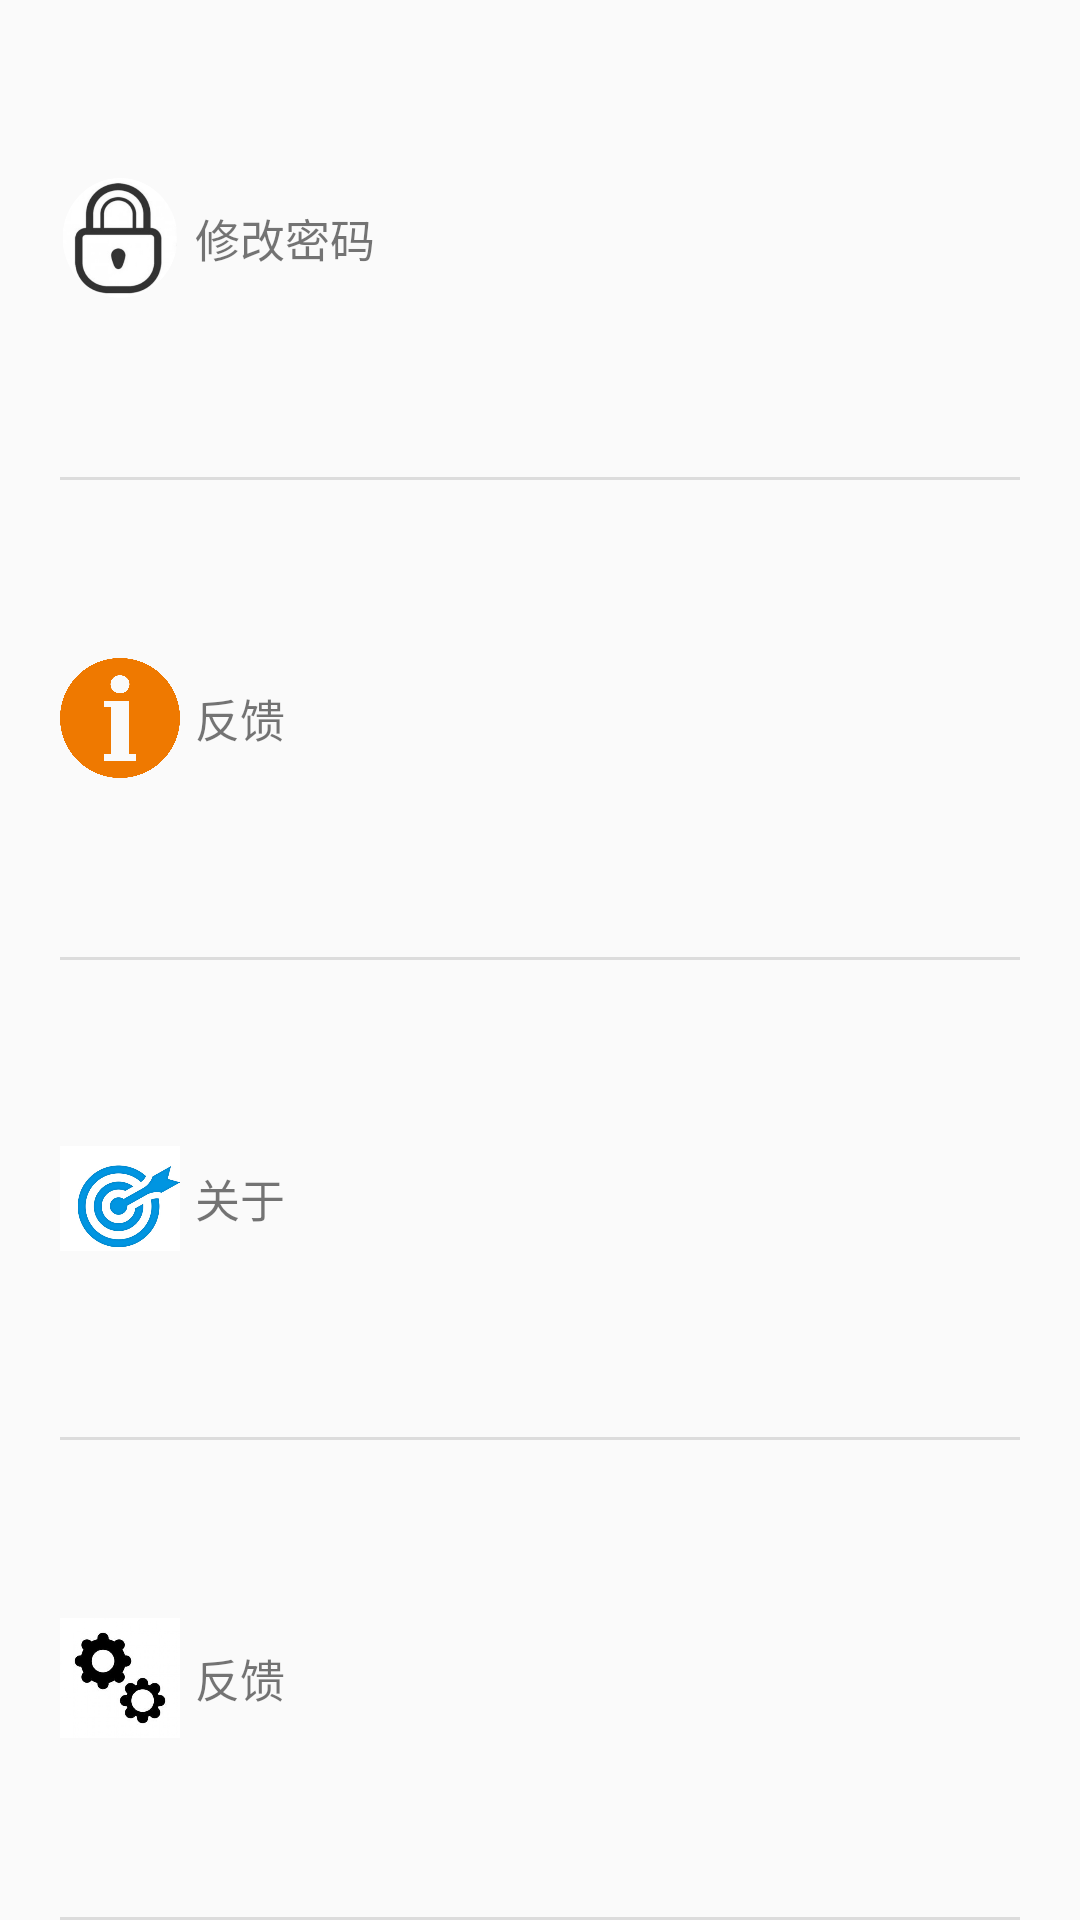

Icon bounding boxes for this 1080 x 1920 phone screenshot, format Rect(x1, y1, x2, y2):
lock: Rect(75, 183, 162, 294)
setting: Rect(75, 1633, 165, 1723)
